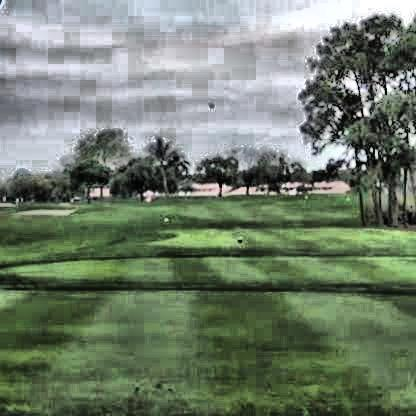golfball: (207, 102, 215, 108)
